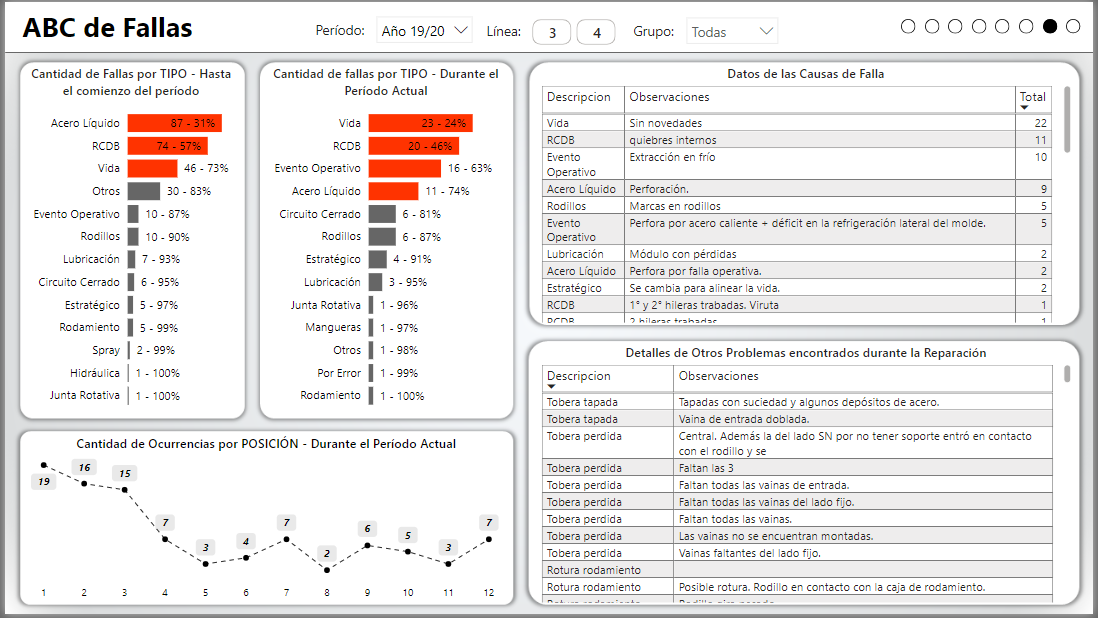

What the dashboard file says about the page in this screenshot:
{"tool":"powerbi","page":{"name":"❓ABC de Fallas","canvas":[1280,720],"ordinal":6},"visuals":[{"type":"textbox","box":[15.5,6.5,228.8,47.8],"z":0},{"type":"barChart","title":"Cantidad de fallas por TIPO - Durante el Período Actual","fields":{"Category":["vCausasDesmontaje.Descripcion"],"Y":["Medidas._ABC Cuenta filas"]},"box":[298.7,68.5,298.7,421.5],"z":1000},{"type":"slicer","fields":{"Values":["vCalendario.AnioFiscal"]},"box":[427.2,7,133.2,47.8],"z":2000,"group":"g1"},{"type":"barChart","title":"Cantidad de Fallas por TIPO - Hasta el comienzo del período","fields":{"Category":["vCausasDesmontaje.Descripcion"],"Y":["Medidas._ABC Recuento histórico minimo"]},"box":[15.5,68.5,266.3,421.5],"z":2000},{"type":"lineChart","title":"Cantidad de Ocurrencias por POSICIÓN - Durante el Período Actual","fields":{"Category":["vCampania.PosicionEnLinea"],"Y":["Medidas._ABC Cuenta Posición"]},"box":[16.8,502.9,581.8,209.5],"z":3000},{"type":"tableEx","title":"Datos de las Causas de Falla","fields":{"Values":["vCausasDesmontaje.Descripcion","vCausasDesmontaje.Observaciones","Medidas.ABC Cuenta filas"]},"box":[615.4,68.5,649.1,314.2],"z":4000},{"type":"textbox","box":[360,22.5,80.2,32.3],"z":5000,"group":"g1"},{"type":"tableEx","title":"Detalles de Otros Problemas encontrados durante la Reparación","fields":{"Values":["vCausasReparacionesEnTaller.Descripcion","vCausasReparacionesEnTaller.Observaciones"]},"box":[615.4,396.9,649.1,315.5],"z":5000},{"type":"actionButton","box":[1054.5,20,17,17.3],"z":6000},{"type":"actionButton","box":[1248.2,20,16.9,16.9],"z":7000},{"type":"actionButton","box":[1082.2,20,17,17.3],"z":8000},{"type":"actionButton","box":[1109.9,20,17,17.3],"z":9000},{"type":"actionButton","box":[1137.6,20,17,17.3],"z":10000},{"type":"actionButton","box":[1165.3,20,17,17.3],"z":11000},{"type":"actionButton","box":[1193,20,17,17.3],"z":12000},{"type":"advancedSlicerVisual","fields":{"Values":["vCampania.Linea"]},"box":[615.7,14.8,108,40],"z":13000,"group":"g1"},{"type":"actionButton","box":[1220.7,20,16.9,17.3],"z":13000},{"type":"group","id":"g1","title":"Grupo 1","box":[360,7,560.1,48.8],"z":14000},{"type":"textbox","box":[561.7,23.8,64,32],"z":14000,"group":"g1"},{"type":"slicer","fields":{"Values":["vSegmento.Grupo"]},"box":[792.1,7.8,128,47.8],"z":15000,"group":"g1"},{"type":"textbox","box":[734,23.6,76.3,31.7],"z":16000,"group":"g1"}]}

Visuals, with their boxes in screenshot pixels (x1, y1, x2, y2), scaled from the page's 1280x720 canvas onto the 1098x618 screenshot:
textbox: locate(13, 6, 210, 47)
"Cantidad de fallas por TIPO - Durante el Período Actual" barChart: locate(256, 59, 512, 421)
slicer - vCalendario.AnioFiscal: locate(366, 6, 481, 47)
"Cantidad de Fallas por TIPO - Hasta el comienzo del período" barChart: locate(13, 59, 242, 421)
"Cantidad de Ocurrencias por POSICIÓN - Durante el Período Actual" lineChart: locate(14, 432, 513, 611)
"Datos de las Causas de Falla" tableEx: locate(528, 59, 1085, 328)
textbox: locate(309, 19, 378, 47)
"Detalles de Otros Problemas encontrados durante la Reparación" tableEx: locate(528, 341, 1085, 611)
actionButton: locate(905, 17, 919, 32)
actionButton: locate(1071, 17, 1085, 32)
actionButton: locate(928, 17, 943, 32)
actionButton: locate(952, 17, 967, 32)
actionButton: locate(976, 17, 990, 32)
actionButton: locate(1000, 17, 1014, 32)
actionButton: locate(1023, 17, 1038, 32)
advancedSlicerVisual - vCampania.Linea: locate(528, 13, 621, 47)
actionButton: locate(1047, 17, 1062, 32)
"Grupo 1" group: locate(309, 6, 789, 48)
textbox: locate(482, 20, 537, 48)
slicer - vSegmento.Grupo: locate(679, 7, 789, 48)
textbox: locate(630, 20, 695, 47)
